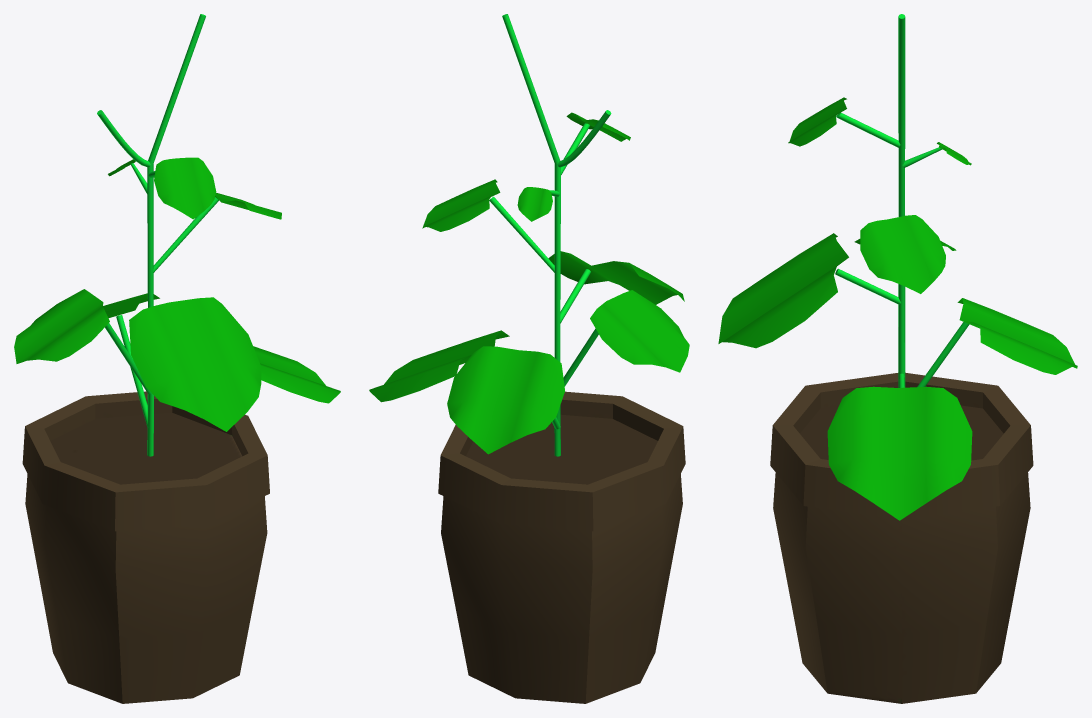
File: Planta.fbx
3 views of the same model, side by side, from view 1: azimuth 30°, elevation 25°; view 2: azimuth 150°, elevation 25°; view 3: azimuth 270°, elevation 25° (orthographic). The views are drawn at different scales.
Parts seen in each view (by area): view 1: Maceta; view 2: Maceta; view 3: Maceta.
Boxes of the visible parts, bbox=[...] form: Maceta: bbox=[14, 14, 340, 703]; Maceta: bbox=[369, 14, 689, 703]; Maceta: bbox=[718, 14, 1077, 703].
Size of the model in its own units: 74.06 by 145 by 69.74.
